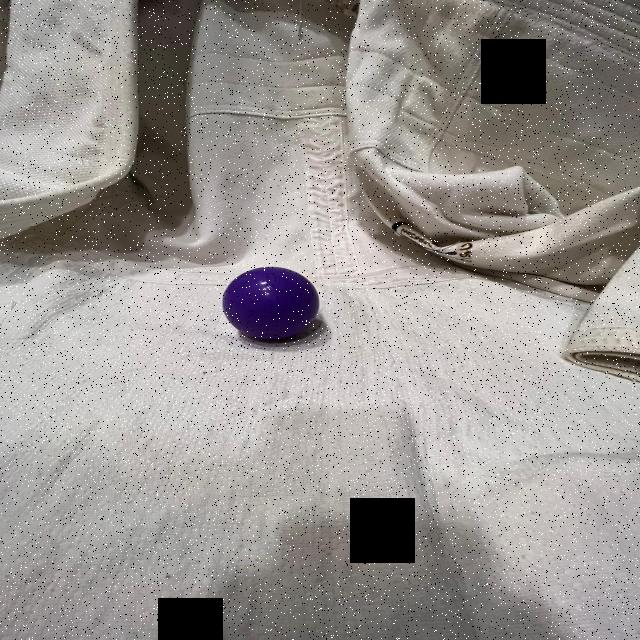ball: (218, 263, 324, 344)
